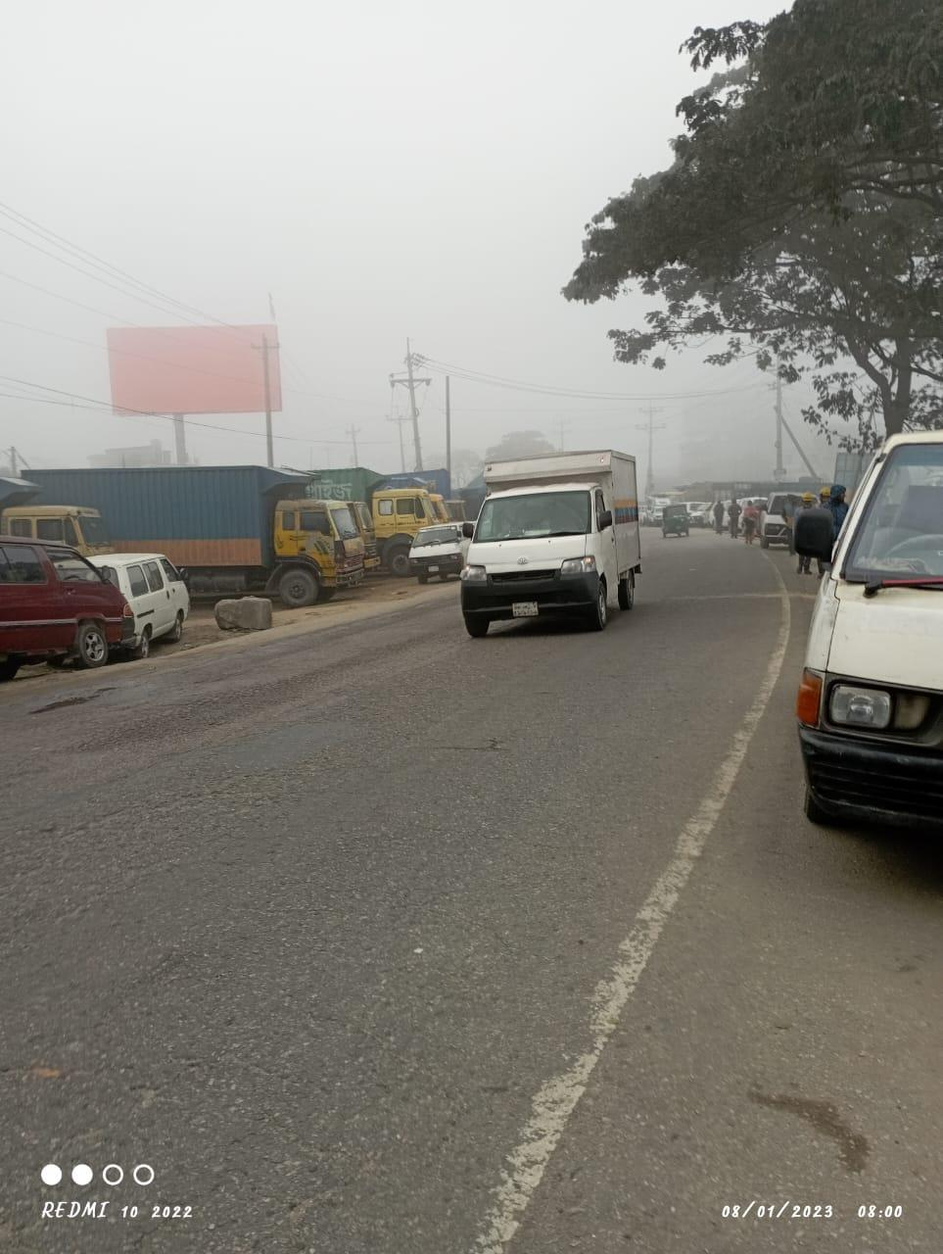Car: (791, 408, 943, 861), (9, 528, 137, 669), (82, 536, 193, 651), (392, 518, 470, 581)
Truck: (37, 454, 357, 588), (444, 444, 650, 631)
